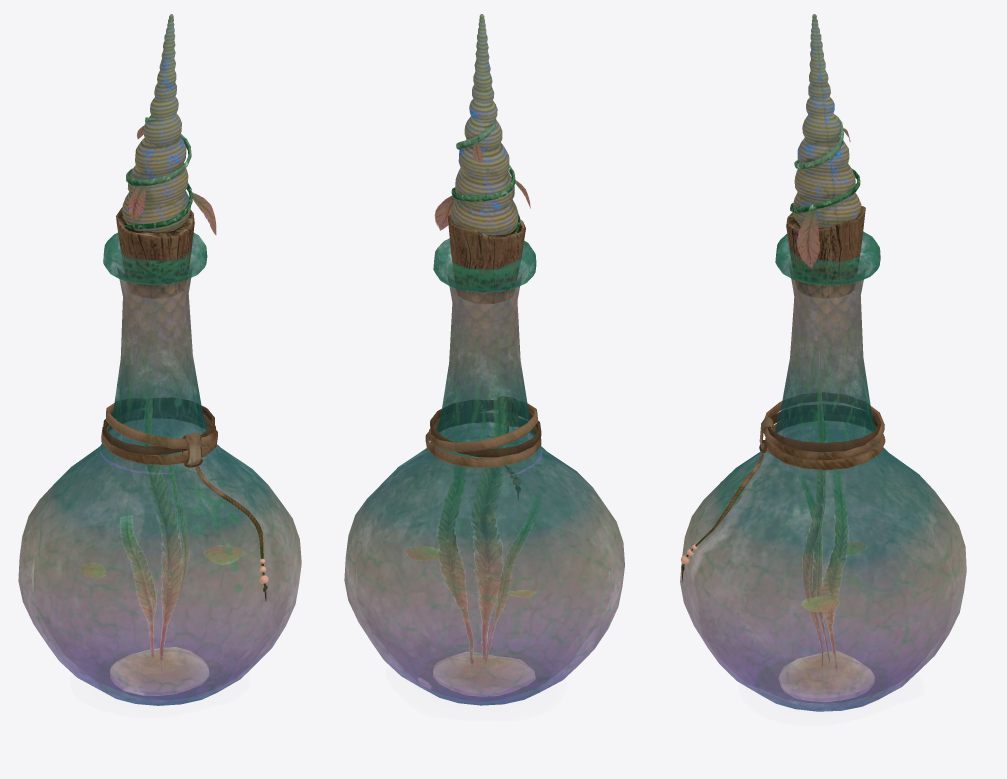
Rendered from potions3.glb.
The picture shows the model from 3 angles, left to right: view 1: azimuth 30°, elevation 25°; view 2: azimuth 150°, elevation 25°; view 3: azimuth 270°, elevation 25°; orthographic projection. The views are drawn at different scales.
Parts seen in each view (by area): view 1: Potion2_Glass_0, Potion2_Objects_0, Potion2_Plants_0, Potion2_Liquid_0; view 2: Potion2_Glass_0, Potion2_Objects_0, Potion2_Plants_0, Potion2_Liquid_0; view 3: Potion2_Glass_0, Potion2_Objects_0, Potion2_Plants_0, Potion2_Liquid_0.
Part boxes in pixels (box(x1,y1,x2,y2)): Potion2_Glass_0: box(18, 233, 301, 705); Potion2_Objects_0: box(101, 14, 268, 690); Potion2_Plants_0: box(80, 117, 242, 659); Potion2_Liquid_0: box(69, 627, 256, 699); Potion2_Glass_0: box(344, 238, 624, 705); Potion2_Objects_0: box(425, 14, 541, 692); Potion2_Plants_0: box(406, 119, 539, 663); Potion2_Liquid_0: box(398, 634, 589, 700); Potion2_Glass_0: box(680, 231, 966, 711); Potion2_Objects_0: box(681, 14, 885, 696); Potion2_Plants_0: box(790, 113, 866, 668); Potion2_Liquid_0: box(728, 631, 930, 702).
Bounding box in the file's own units: 118 × 299 × 126.
5 materials, 5 textured.
